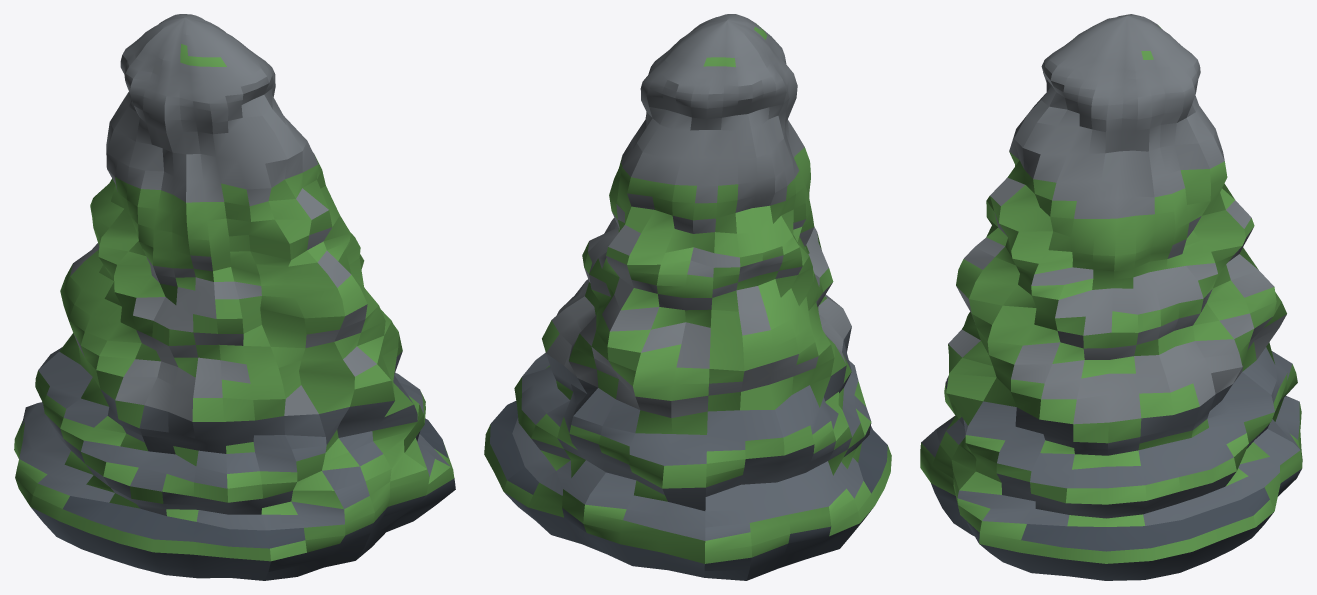
The model's file is SM_Rock_Cliff_01.fbx.
3 renders of one model, left to right at view 1: azimuth 30°, elevation 25°; view 2: azimuth 150°, elevation 25°; view 3: azimuth 270°, elevation 25°, orthographic. The views are drawn at different scales.
Visible parts, largest first — view 1: SM_Rock_Cliff_01; view 2: SM_Rock_Cliff_01; view 3: SM_Rock_Cliff_01.
Boxes of the visible parts, x1,y1,x2,y2 form: SM_Rock_Cliff_01: [14, 14, 455, 580]; SM_Rock_Cliff_01: [484, 14, 891, 580]; SM_Rock_Cliff_01: [920, 14, 1302, 580].
Size of the model in its own units: 42.52 by 53 by 39.05.
